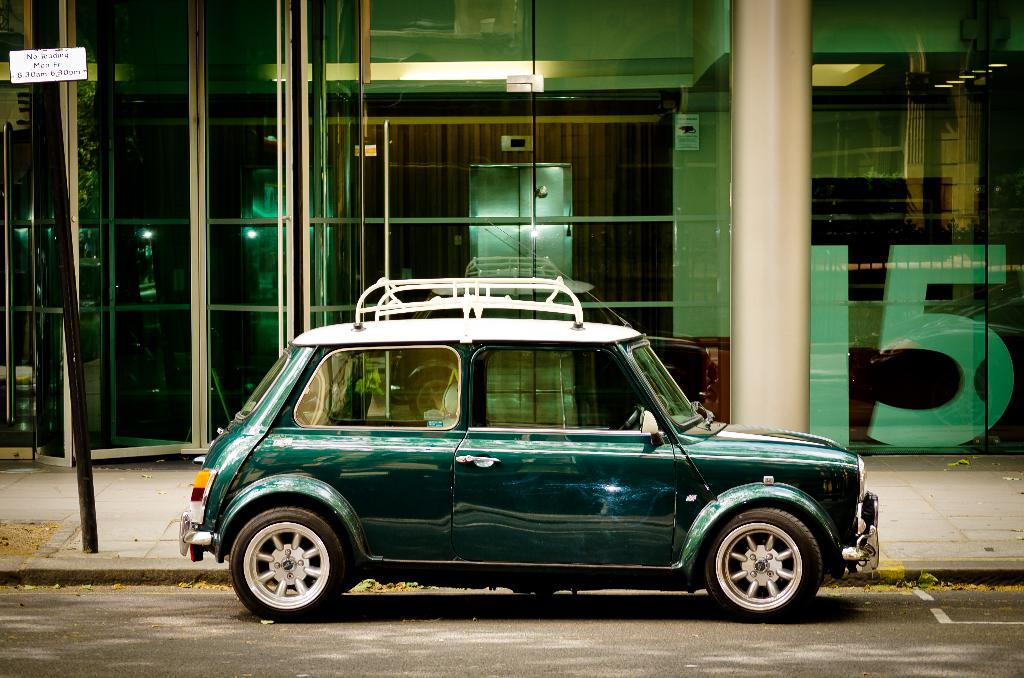Car: (171, 215, 877, 627)
